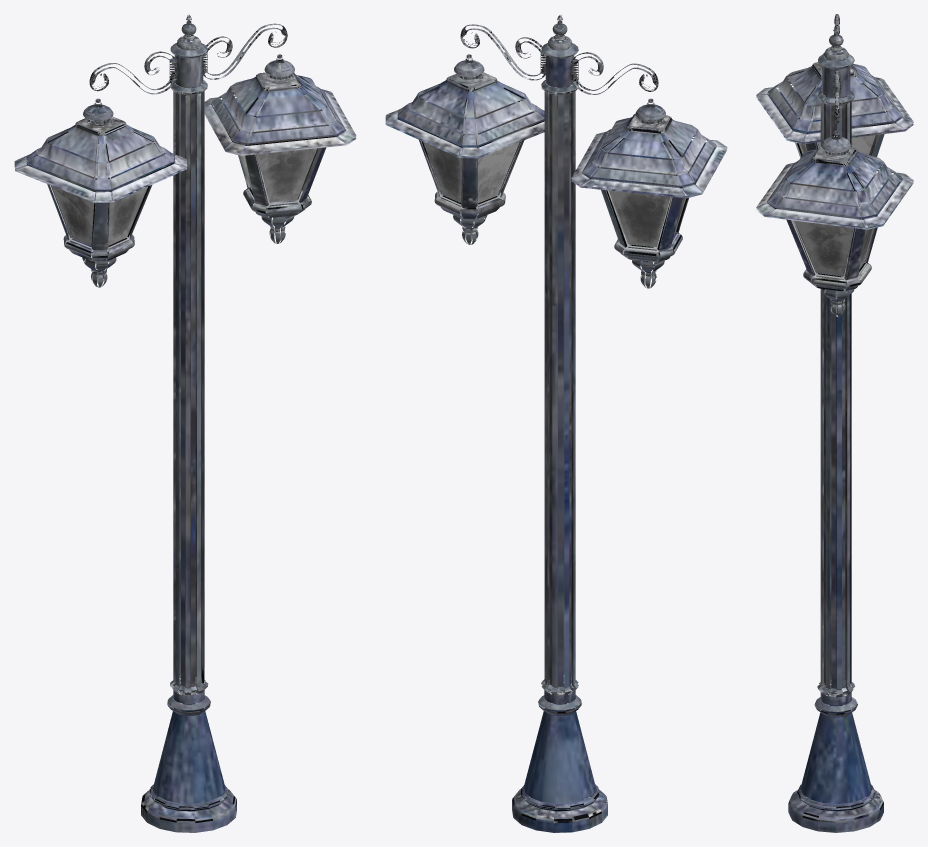
The model's file is bk_street_lamp.glb.
3 views of the same model, side by side, from view 1: azimuth 30°, elevation 25°; view 2: azimuth 150°, elevation 25°; view 3: azimuth 270°, elevation 25° (orthographic).
Parts seen in each view (by area): view 1: SM_street_light; view 2: SM_street_light; view 3: SM_street_light.
Boxes of the visible parts, x1=… form: SM_street_light: x1=14, y1=15, x2=356, y2=832; SM_street_light: x1=385, y1=15, x2=727, y2=832; SM_street_light: x1=756, y1=14, x2=913, y2=832.
Size of the model in its own units: 2.07 by 5 by 0.9076.
1 material, 1 textured.
